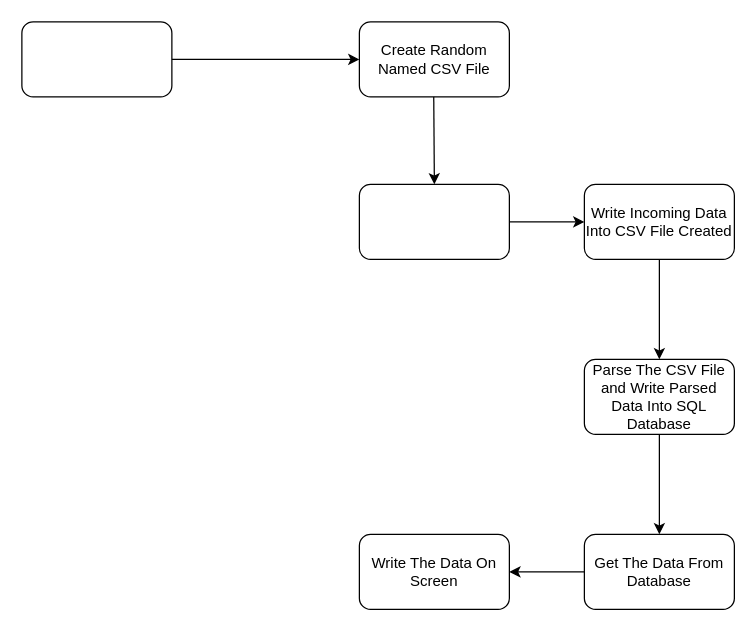
This 756x631 diagram has some shape labels left out. Each missing label, with the centre of its shape:
"Get CSV Formatted Data From SIM808" belongs at (433,221).
"Start The Session" belongs at (96,59).
